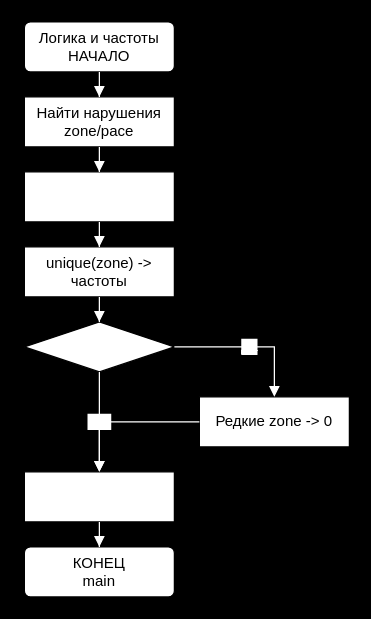
Image size: 371x619. Some labels were removed from this diagram. The shapes that lost their labels are listed below. From the top down, each one's centre as x and y in pixels, then its label:
At (x=98, y=196): "Корректировать zone (np.where)".
At (x=98, y=346): "freq < 1%?".
At (x=98, y=496): "save final_preprocessed.npy".
